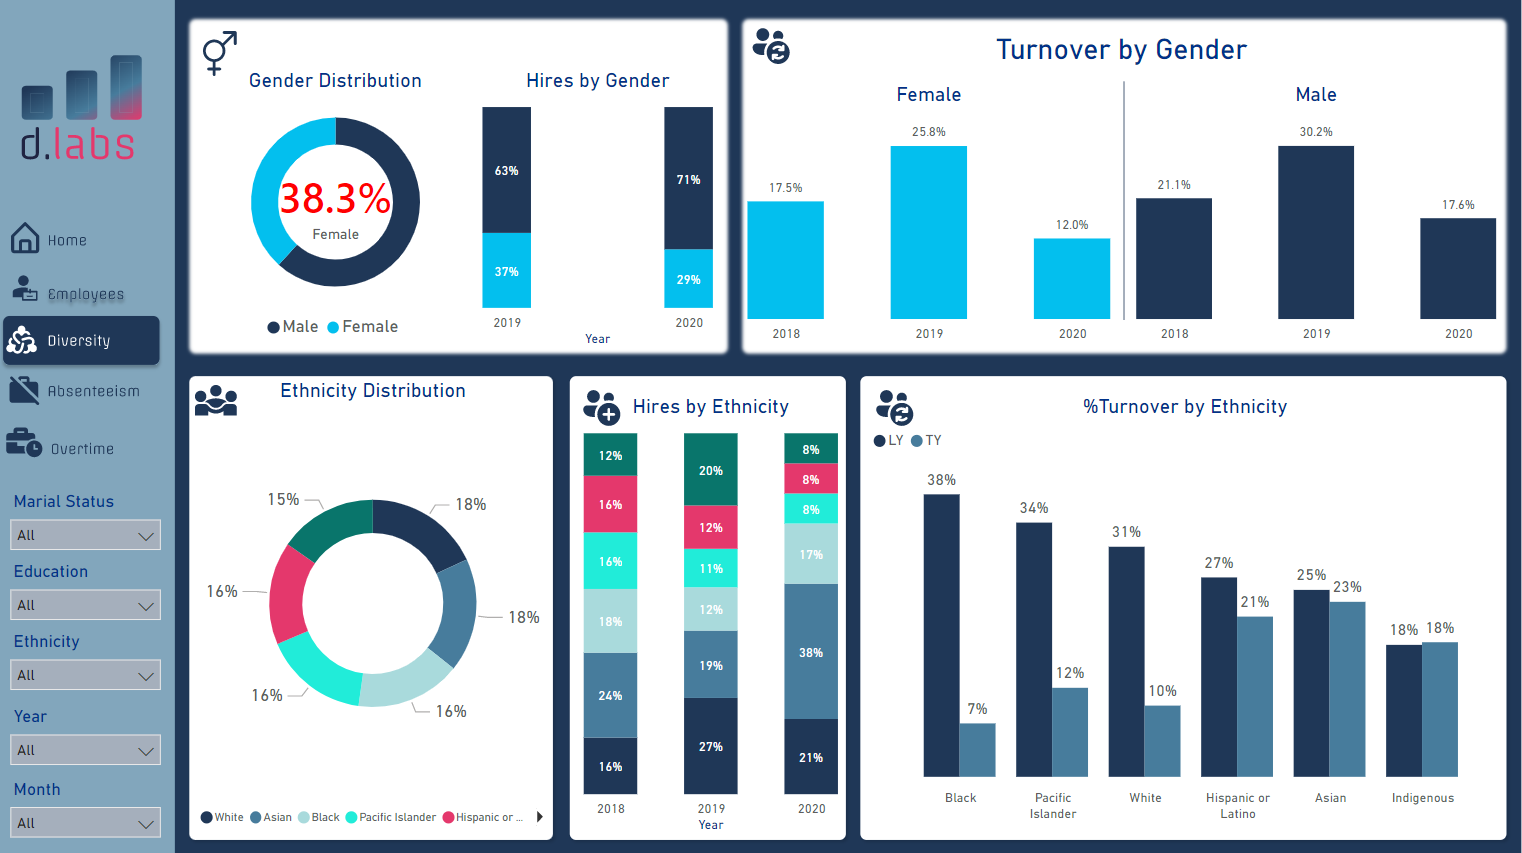

The page's visual inventory and layout, read from the dashboard file:
{"tool":"powerbi","page":{"name":"Diversity","canvas":[1280,720],"ordinal":2},"visuals":[{"type":"donutChart","title":"Gender Distribution","fields":{"Category":["dFuncionarios.Sexo"],"Y":["Measures (2).Headcount"]},"box":[157.6,57.4,251.9,238.3],"z":0},{"type":"hundredPercentStackedColumnChart","title":"Hires by Gender","fields":{"Y":["Measures (2).Hires"],"Series":["dFuncionarios.Sexo"],"Category":["dCalendario.Year"]},"box":[402.7,57.4,203.3,238.3],"z":1000},{"type":"clusteredColumnChart","title":"Female","fields":{"Category":["dCalendario.Year"],"Series":["dFuncionarios.Sexo"],"Y":["Measures (2).% Turnover"]},"box":[625.2,69.8,314.9,226.3],"z":2000},{"type":"clusteredColumnChart","title":"Male","fields":{"Category":["dCalendario.Year"],"Series":["dFuncionarios.Sexo"],"Y":["Measures (2).% Turnover"]},"box":[951.8,69.8,312.3,226.5],"z":3000},{"type":"donutChart","title":"Ethnicity Distribution","fields":{"Category":["dFuncionarios.Nacionalidade"],"Y":["Measures (2).Hires"]},"box":[164.4,318.1,300.5,387.1],"z":4000},{"type":"hundredPercentStackedColumnChart","title":"Hires by Ethnicity","fields":{"Y":["Measures (2).Hires"],"Category":["dCalendario.Year"],"Series":["dFuncionarios.Nacionalidade"]},"box":[487.2,331.6,223.3,373.3],"z":5000},{"type":"textbox","box":[783,23.3,321,46.7],"z":6000},{"type":"card","fields":{"Values":["Measures (2).% Headconunt"]},"box":[228.6,126.4,109.9,94.3],"z":7000},{"type":"clusteredColumnChart","title":"%Turnover by Ethnicity","fields":{"Y":["Measures (2).%Turnover LY","Measures (2).%Turover TY"],"Category":["dFuncionarios.Ethnicity"]},"box":[729.5,331.7,535,366.7],"z":8000},{"type":"slicer","fields":{"Values":["dFuncionarios.Estado Civil"]},"box":[0,408.3,147,70],"z":9000},{"type":"slicer","fields":{"Values":["dFuncionarios.Escolaridade"]},"box":[0,467.6,147,70],"z":10000},{"type":"slicer","fields":{"Values":["dFuncionarios.Nacionalidade"]},"box":[0,526.1,147,70],"z":11000},{"type":"slicer","fields":{"Values":["dCalendario.Year"]},"box":[0,588.9,147,70],"z":12000},{"type":"slicer","fields":{"Values":["dCalendario.MOnth"]},"box":[0,650,147,70],"z":13000},{"type":"actionButton","box":[6.2,182.4,109.8,32.8],"z":14000},{"type":"actionButton","box":[6.2,303.8,117.8,41.6],"z":15000},{"type":"actionButton","box":[6.2,354.2,100.1,38.1],"z":16000},{"type":"actionButton","box":[6.2,227.6,109.8,32.8],"z":17000}]}

Visuals, with their boxes on the page's 1280x720 design canvas (x1, y1, x2, y2). These are canvas units, not pixel positions in the 1522x853 screenshot, which may show the page scaled, cropped or inside an application window:
"Gender Distribution" donutChart: [left=158, top=57, right=410, bottom=296]
"Hires by Gender" hundredPercentStackedColumnChart: [left=403, top=57, right=606, bottom=296]
"Female" clusteredColumnChart: [left=625, top=70, right=940, bottom=296]
"Male" clusteredColumnChart: [left=952, top=70, right=1264, bottom=296]
"Ethnicity Distribution" donutChart: [left=164, top=318, right=465, bottom=705]
"Hires by Ethnicity" hundredPercentStackedColumnChart: [left=487, top=332, right=710, bottom=705]
textbox: [left=783, top=23, right=1104, bottom=70]
card - Measures (2).% Headconunt: [left=229, top=126, right=338, bottom=221]
"%Turnover by Ethnicity" clusteredColumnChart: [left=730, top=332, right=1264, bottom=698]
slicer - dFuncionarios.Estado Civil: [left=0, top=408, right=147, bottom=478]
slicer - dFuncionarios.Escolaridade: [left=0, top=468, right=147, bottom=538]
slicer - dFuncionarios.Nacionalidade: [left=0, top=526, right=147, bottom=596]
slicer - dCalendario.Year: [left=0, top=589, right=147, bottom=659]
slicer - dCalendario.MOnth: [left=0, top=650, right=147, bottom=720]
actionButton: [left=6, top=182, right=116, bottom=215]
actionButton: [left=6, top=304, right=124, bottom=345]
actionButton: [left=6, top=354, right=106, bottom=392]
actionButton: [left=6, top=228, right=116, bottom=260]
